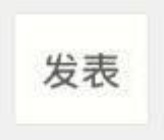Button: (1, 1, 163, 139)
